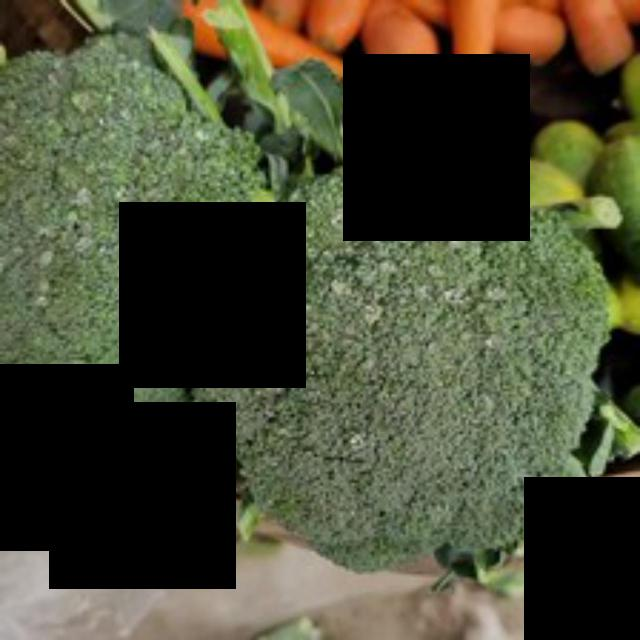broccoli: (215, 166, 612, 574)
